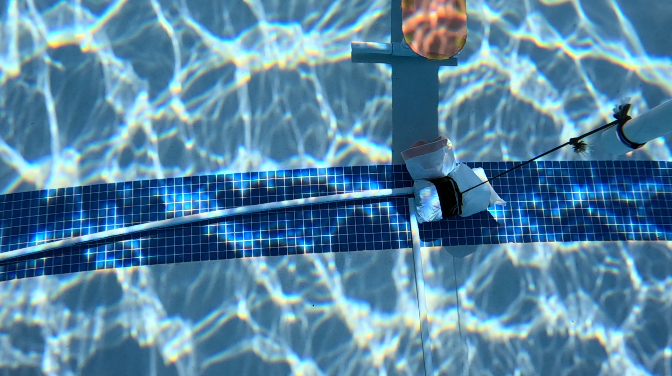pathmarker: (400, 0, 466, 60)
